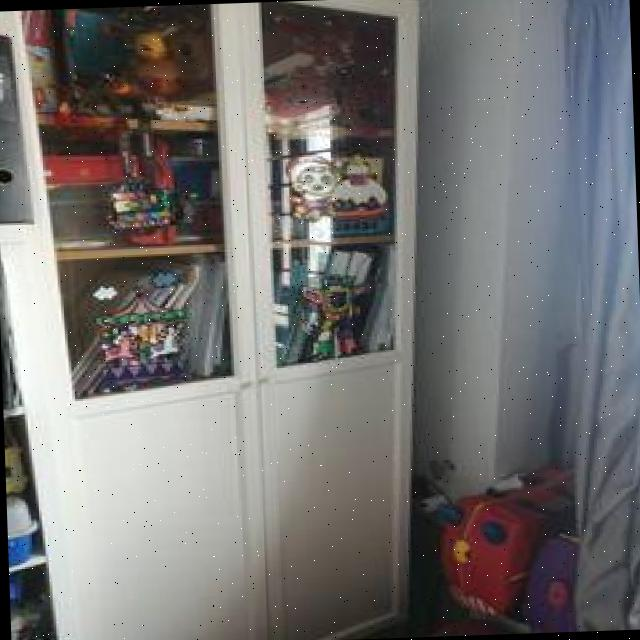Closet: (0, 0, 454, 640)
